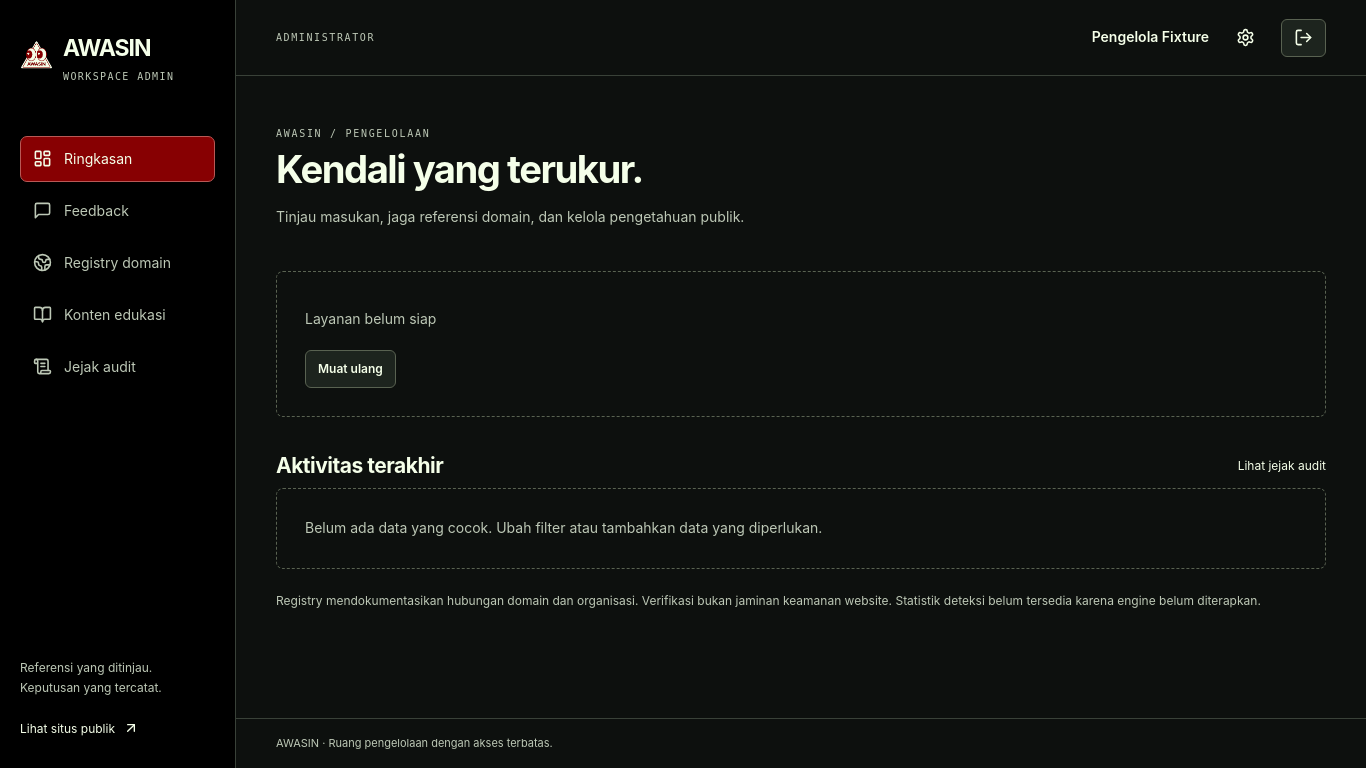
shows API failure honestly and retries
This screenshot has width=1366, height=768.
Check: the message "Layanan belum siap" is shown, box left=305, top=310, right=436, bottom=326
Click the button "Muat ulang": (350, 369) left=305, top=350, right=396, bottom=388
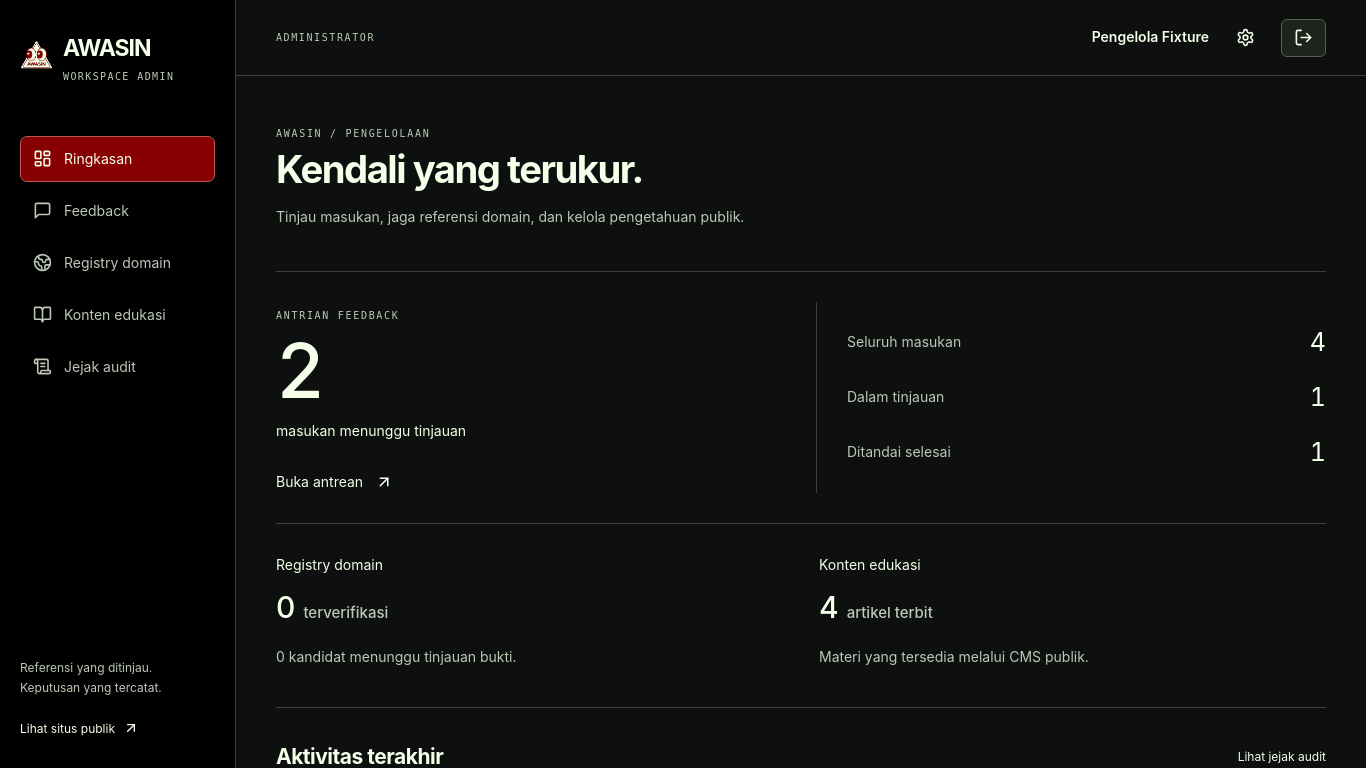
Check: the message "Layanan belum siap" is gone
